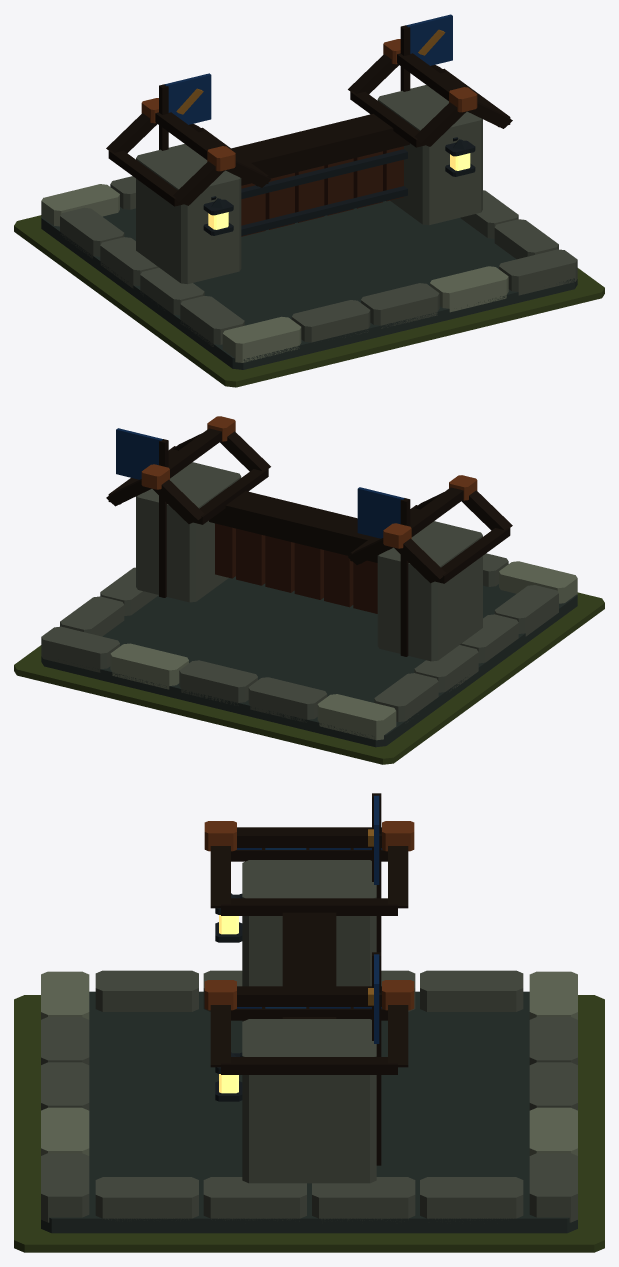
Rendered from dawn-gate_t1.glb.
3 views of the same model, one above another, from view 1: azimuth 30°, elevation 25°; view 2: azimuth 150°, elevation 25°; view 3: azimuth 270°, elevation 25° (orthographic). The views are drawn at different scales.
Visible parts, largest first — view 1: MMR | dawn-gate | T01 Architecture.001, MMR | dawn-gate | Tier 01 Ground.001, MMR | dawn-gate | T01 Lift Gate.001; view 2: MMR | dawn-gate | T01 Architecture.001, MMR | dawn-gate | Tier 01 Ground.001, MMR | dawn-gate | T01 Lift Gate.001; view 3: MMR | dawn-gate | T01 Architecture.001, MMR | dawn-gate | Tier 01 Ground.001.
Boxes of the visible parts, bbox=[...] form: MMR | dawn-gate | T01 Architecture.001: bbox=[41, 14, 577, 369]; MMR | dawn-gate | Tier 01 Ground.001: bbox=[14, 215, 604, 387]; MMR | dawn-gate | T01 Lift Gate.001: bbox=[241, 146, 407, 236]; MMR | dawn-gate | T01 Architecture.001: bbox=[41, 416, 577, 747]; MMR | dawn-gate | Tier 01 Ground.001: bbox=[14, 592, 604, 764]; MMR | dawn-gate | T01 Lift Gate.001: bbox=[215, 523, 377, 613]; MMR | dawn-gate | T01 Architecture.001: bbox=[41, 793, 577, 1233]; MMR | dawn-gate | Tier 01 Ground.001: bbox=[14, 995, 604, 1252].
Size of the model in its own units: 3.3 by 1.56 by 3.3.
2 materials, 1 textured.
